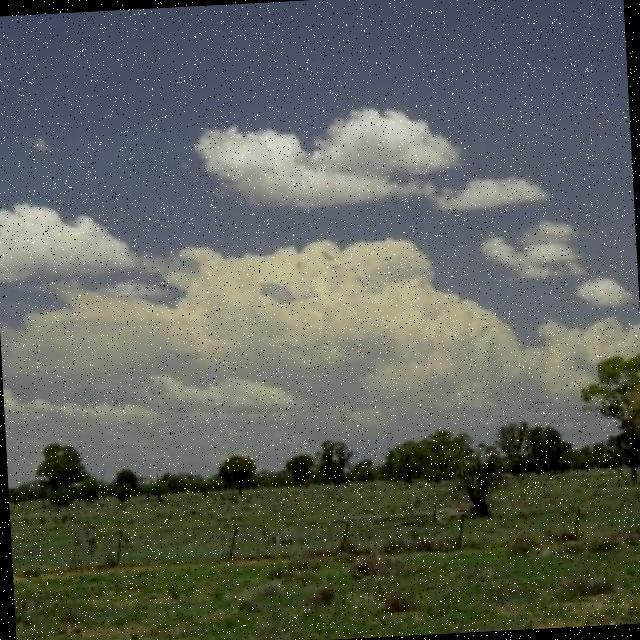Cu: (1, 161, 637, 438)
